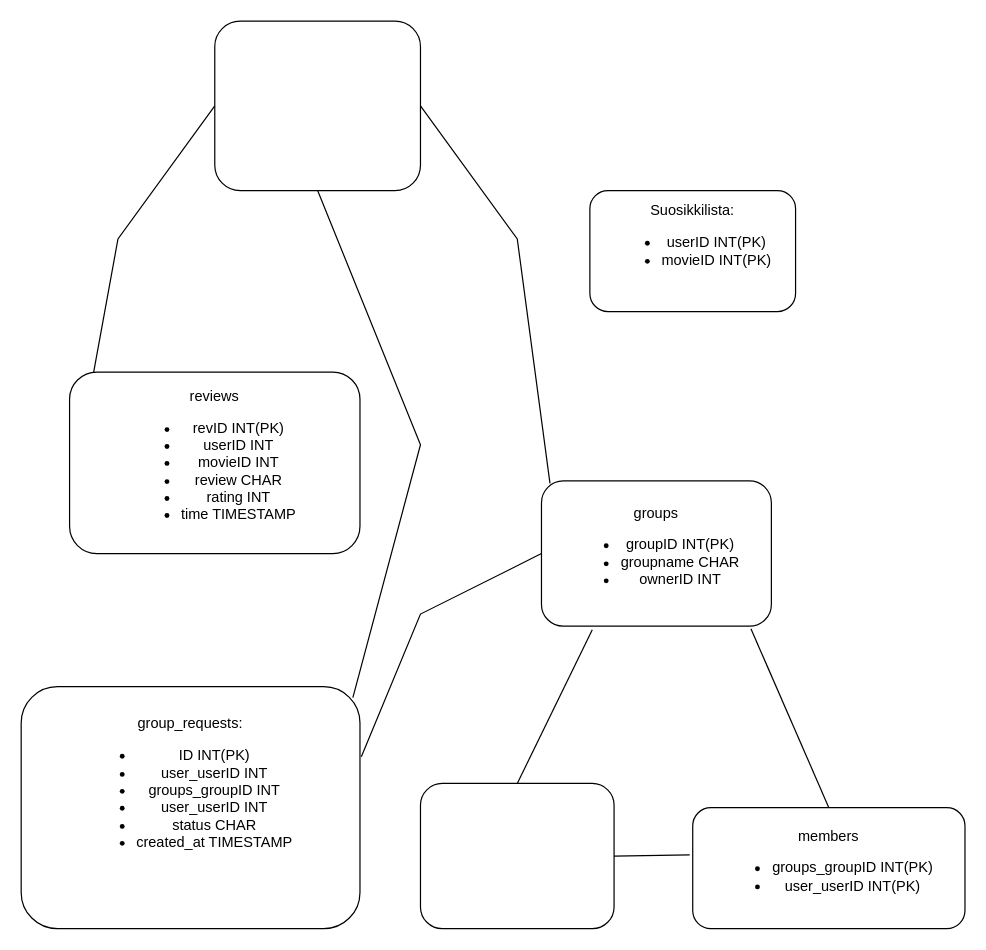
The diagram is 986 pixels wide and 950 high, and some of its shapes have lost their labels. The box of each missing label's shape, as (x1, y1, x2, y2) in pixels:
app_users userID INT (PK) username CHAR email CHAR password CHAR: (214, 20, 420, 191)
group_movies groupID INT(PK) movieID INT(PK): (419, 782, 614, 929)
